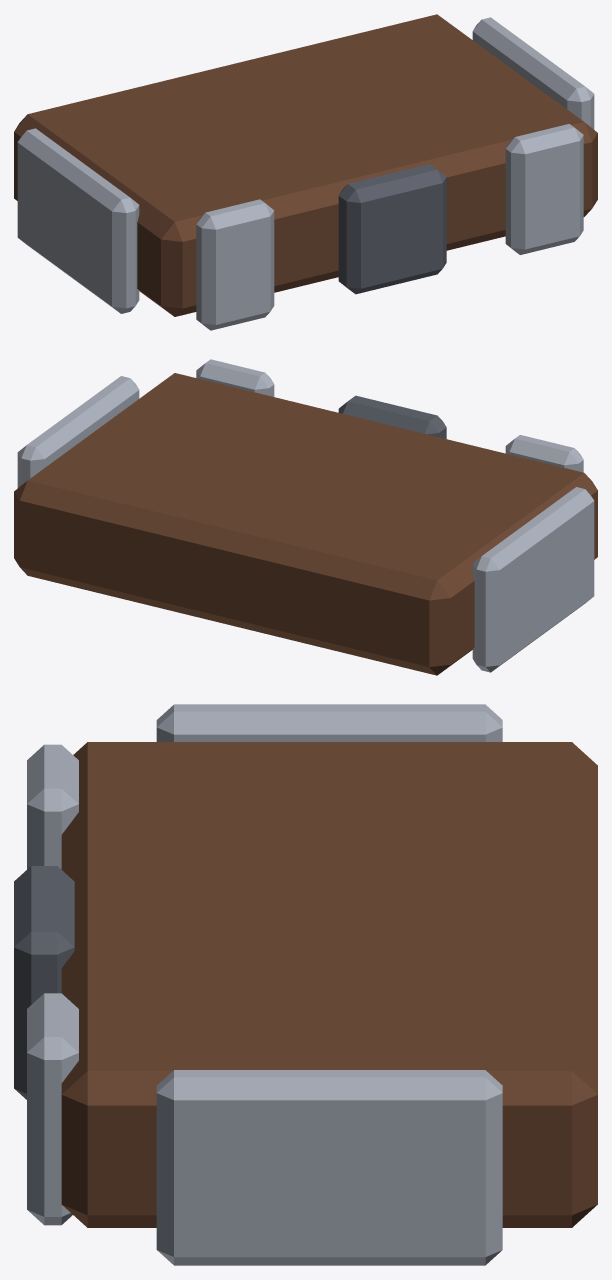
Rendered from PlatedBelt.fbx.
3 views of the same model, one above another, from view 1: azimuth 30°, elevation 25°; view 2: azimuth 150°, elevation 25°; view 3: azimuth 270°, elevation 25° (orthographic). The views are drawn at different scales.
Parts seen in each view (by area): view 1: PlatedBelt__hips; view 2: PlatedBelt__hips; view 3: PlatedBelt__hips.
Part boxes in pixels (x1=…): PlatedBelt__hips: x1=14, y1=14, x2=597, y2=330; PlatedBelt__hips: x1=14, y1=359, x2=597, y2=675; PlatedBelt__hips: x1=14, y1=704, x2=597, y2=1265.
Size of the model in its own units: 0.53 by 0.12 by 0.3375.
